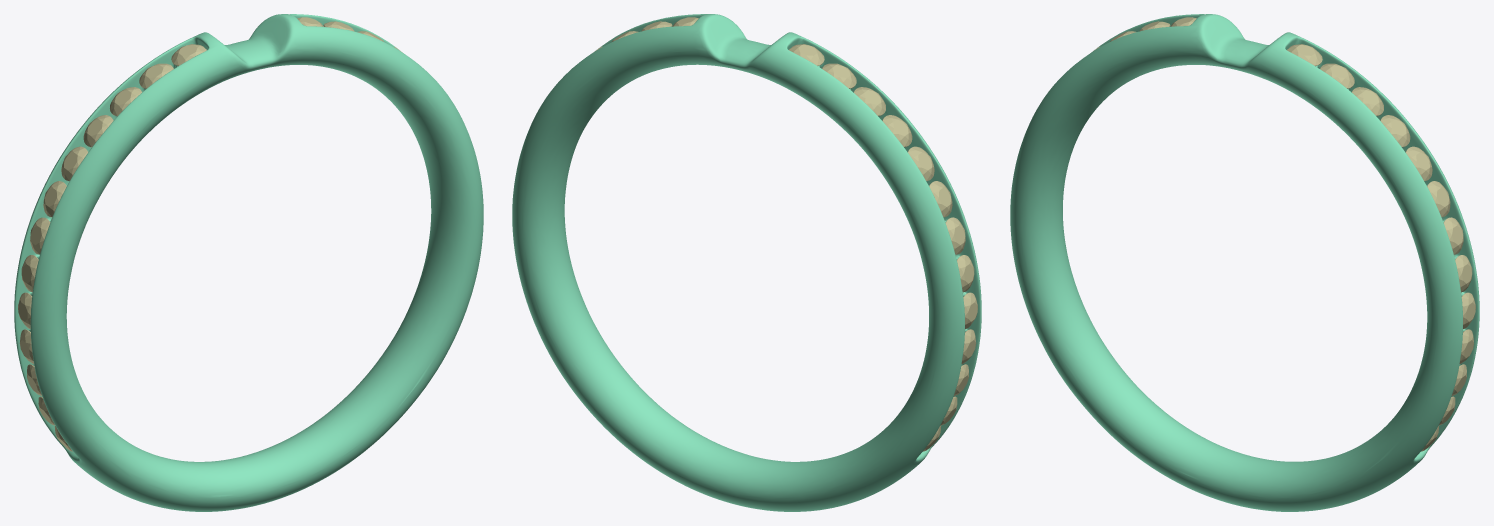
3 views of the same model, side by side, from view 1: azimuth 30°, elevation 25°; view 2: azimuth 150°, elevation 25°; view 3: azimuth 330°, elevation 25° (orthographic).
Visible parts, largest first — view 1: Metal02, Diamond_Gem.009, Diamond_Gem.008; view 2: Metal02, Diamond_Gem.009, Diamond_Gem.008, Diamond_Gem.010; view 3: Metal02, Diamond_Gem.016, Diamond_Gem.017.
Boxes of the visible parts, <box> form: Metal02: <box>14,14,483,511</box>; Diamond_Gem.009: <box>83,115,113,147</box>; Diamond_Gem.008: <box>61,146,88,181</box>; Metal02: <box>512,14,981,511</box>; Diamond_Gem.009: <box>882,115,912,147</box>; Diamond_Gem.008: <box>907,146,934,181</box>; Diamond_Gem.010: <box>853,87,885,116</box>; Metal02: <box>1010,14,1479,511</box>; Diamond_Gem.016: <box>1380,115,1410,147</box>; Diamond_Gem.017: <box>1405,146,1432,181</box>.
Bounding box in the file's own units: 21 × 21.14 × 2.49.
